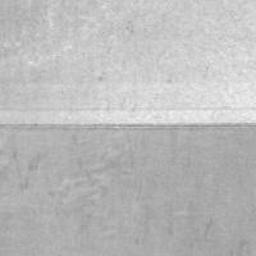Welding line: (0, 122, 256, 129)
